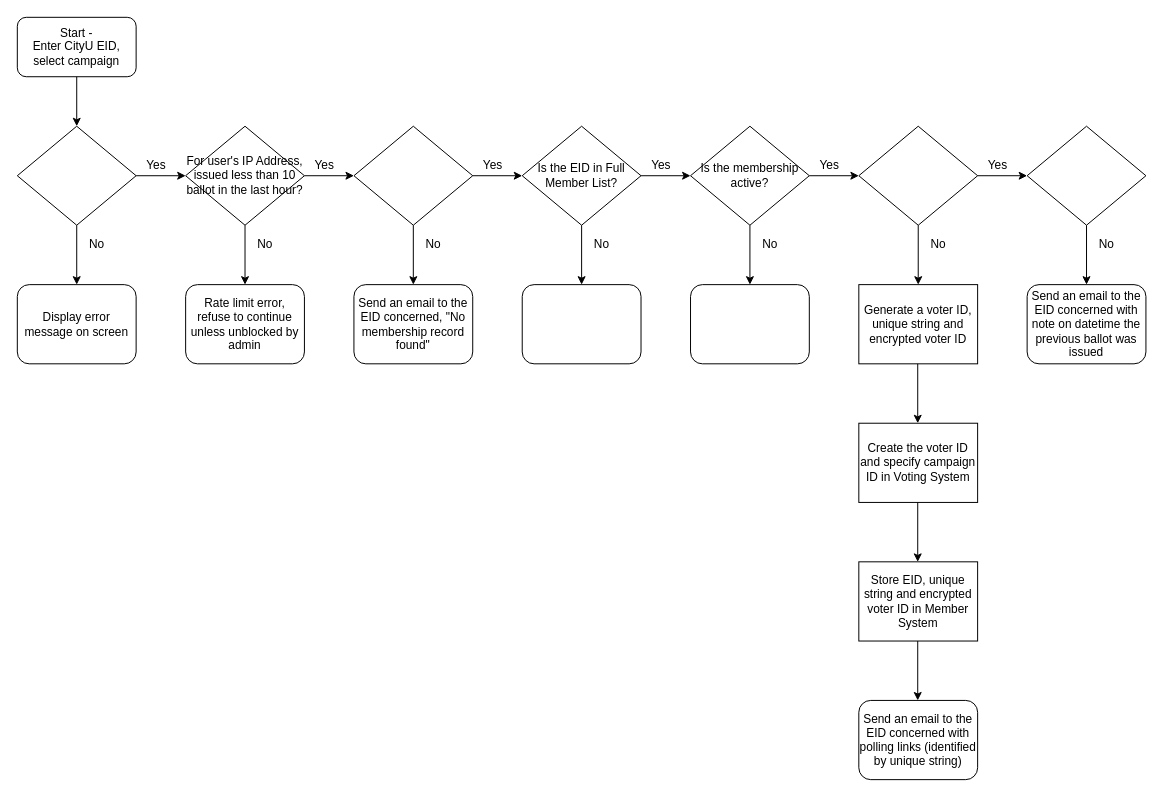
Some shapes in this 1163 by 797 pixel diagram are drawn without their labels. The shapes that lost their labels are listed below. From the top down, each one's box as (x1, y1, x2, y2) in pixels, then its label:
(16, 125, 136, 225): Is the EID in alpha-numeric format, campaign is active, and correct CAPTCHA?
(353, 125, 473, 225): Is the EID in SU Member List?
(858, 125, 978, 225): Has the member voted before?
(1026, 125, 1146, 225): Has the previous link expired?
(521, 284, 641, 364): Send an email to the EID concerned, "Membership type does not permit to vote"
(690, 284, 809, 364): Send an email to the EID concerned, "Membership expired"
